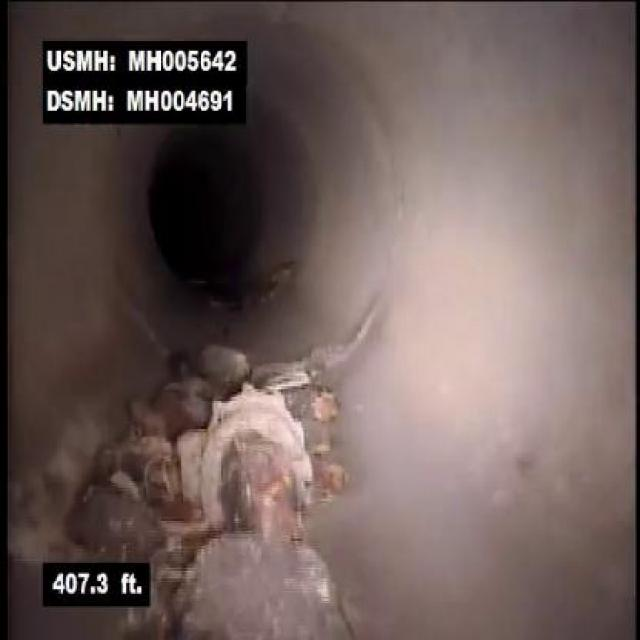Debris: (125, 320, 346, 540)
